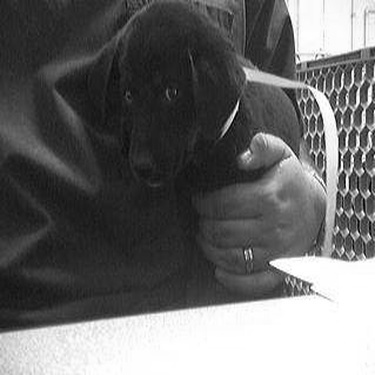dog: (86, 6, 309, 310)
